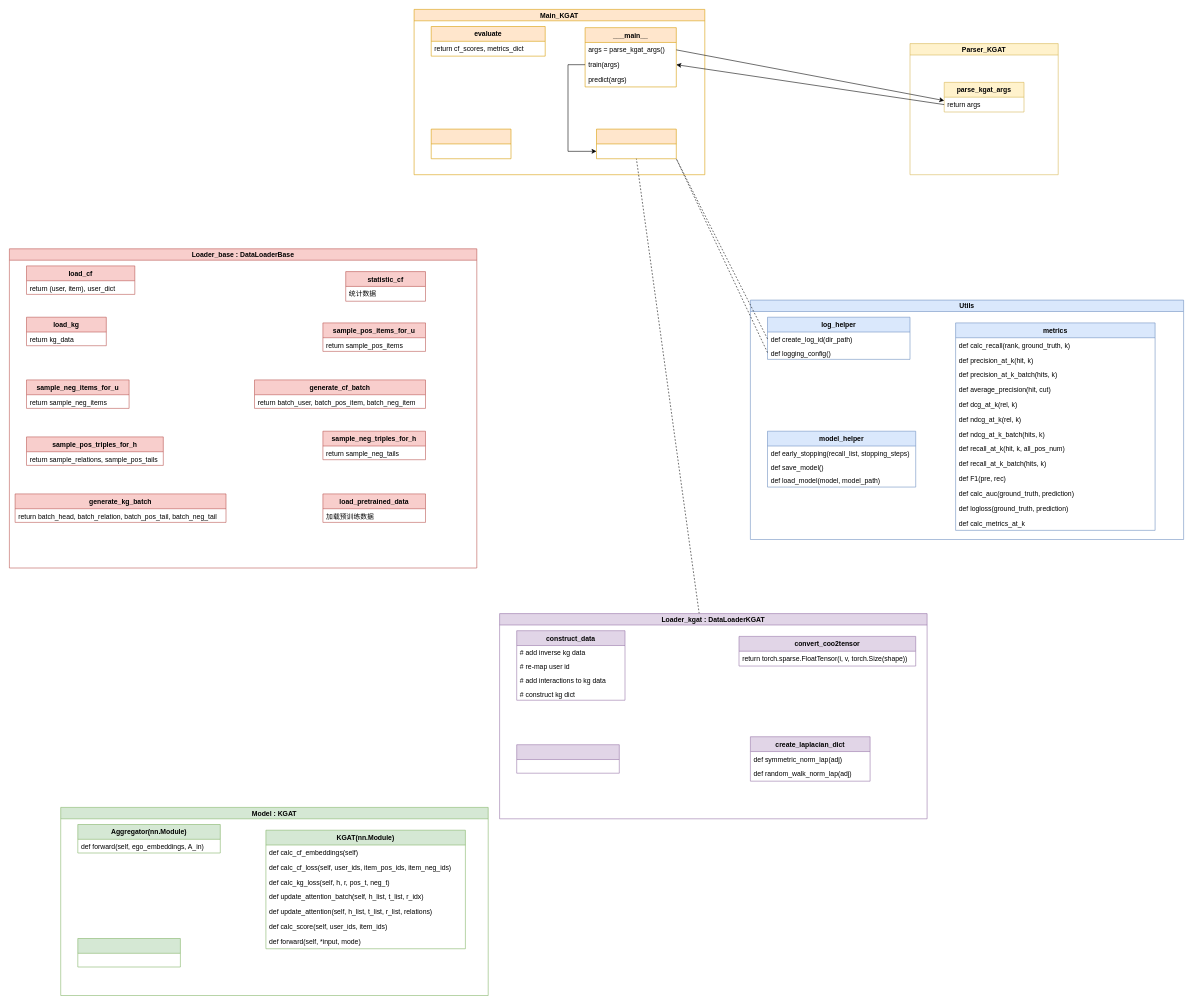
The diagram is 1193 pixels wide and 1005 high, and some of its shapes have lost their labels. Each missing label, with the centre of its shape:
_L2_loss_mean: [128,952]
predict: [471,144]
print_info: [567,758]
train: [636,144]
